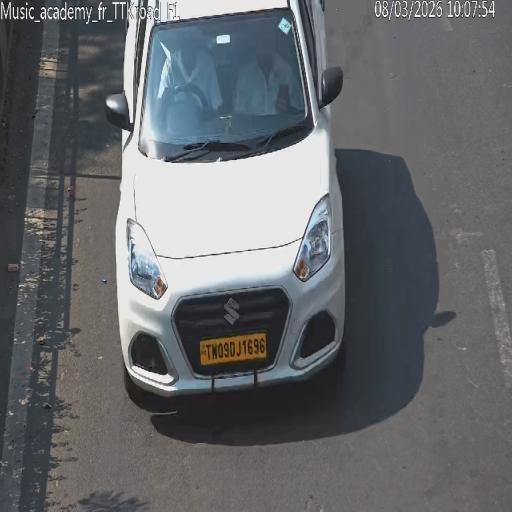person_with_seatbelt: (158, 35, 196, 106)
person_without_seatbelt: (246, 60, 292, 111)
